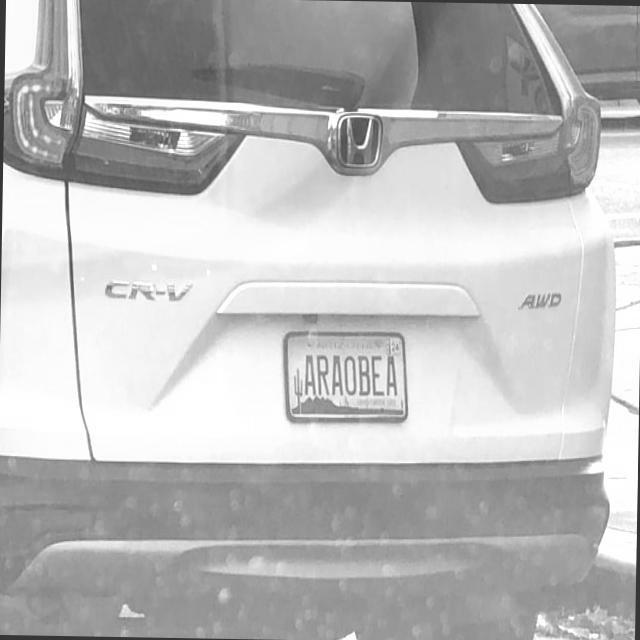LicensePlate: (282, 330, 408, 422)
